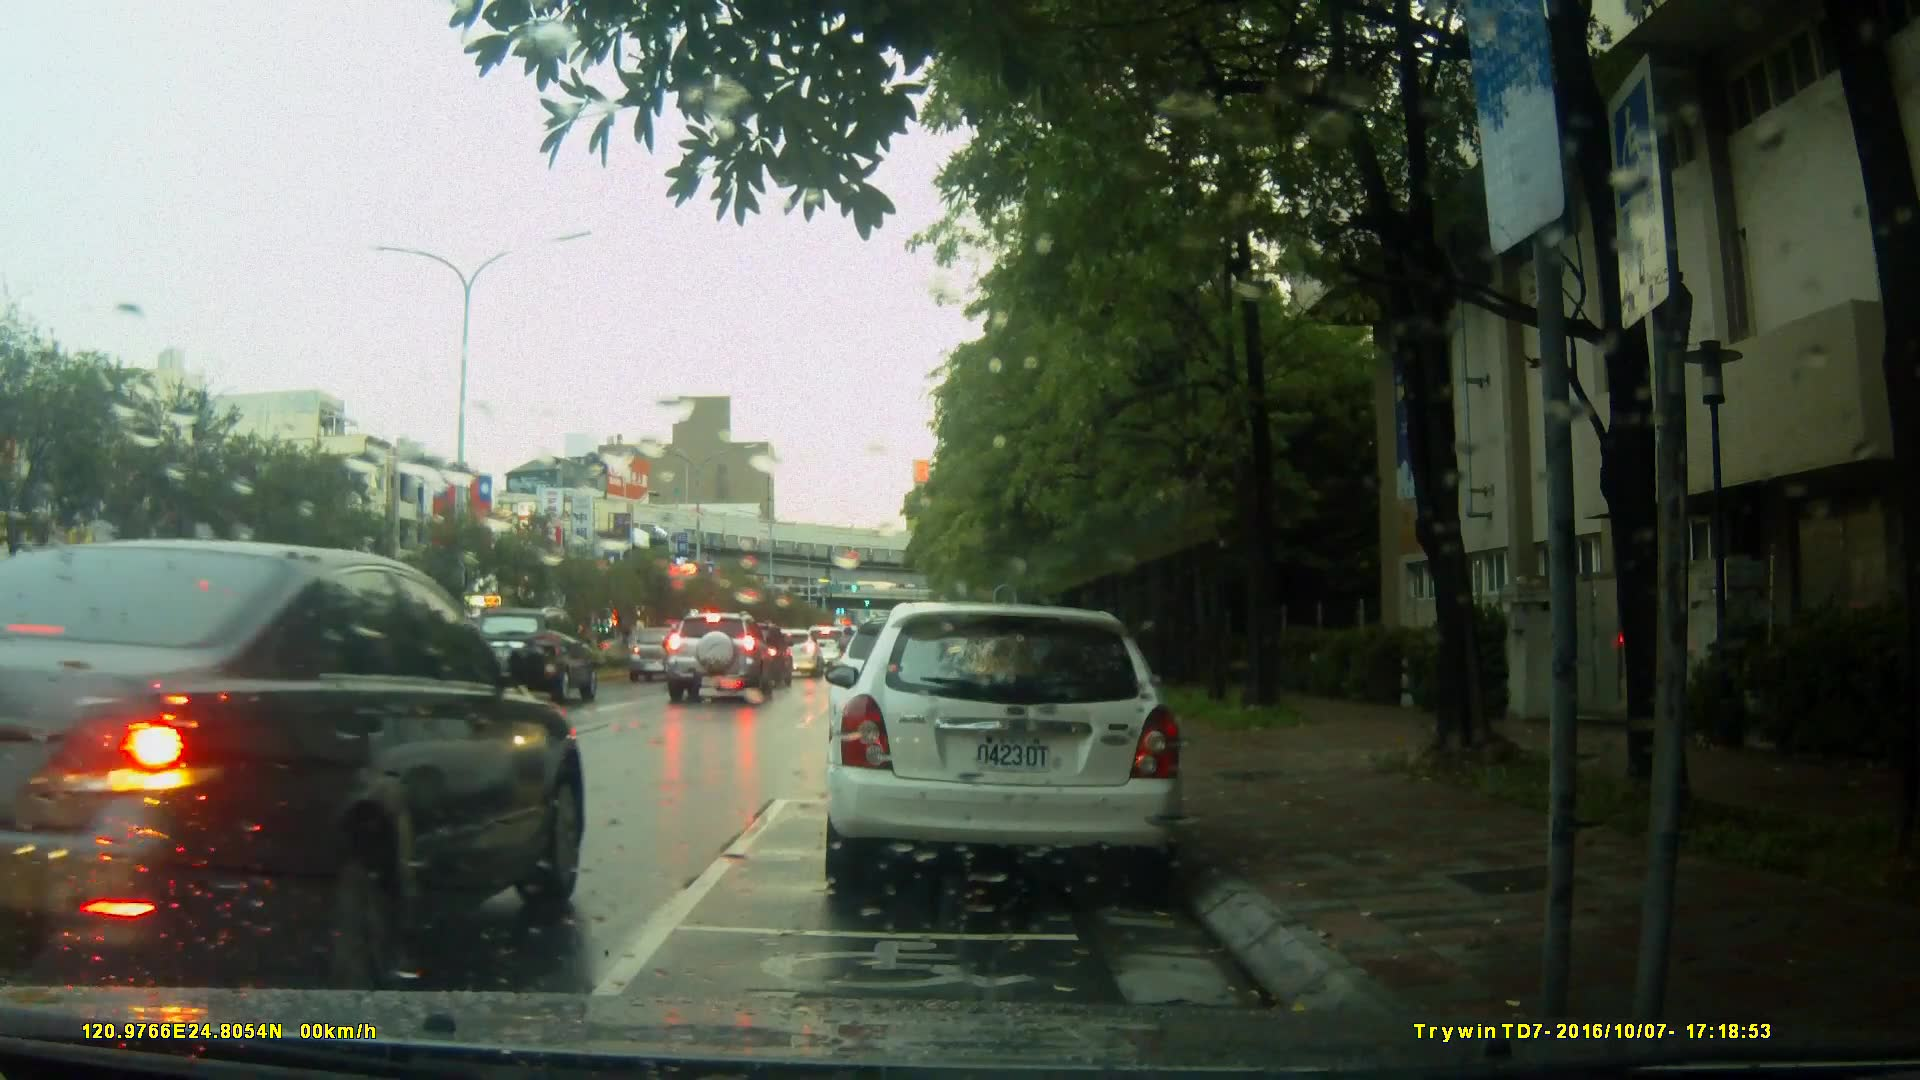rider: (838, 625, 864, 684)
vehicle: (1, 534, 587, 992), (820, 602, 1188, 898), (458, 606, 599, 708), (666, 611, 772, 706)
